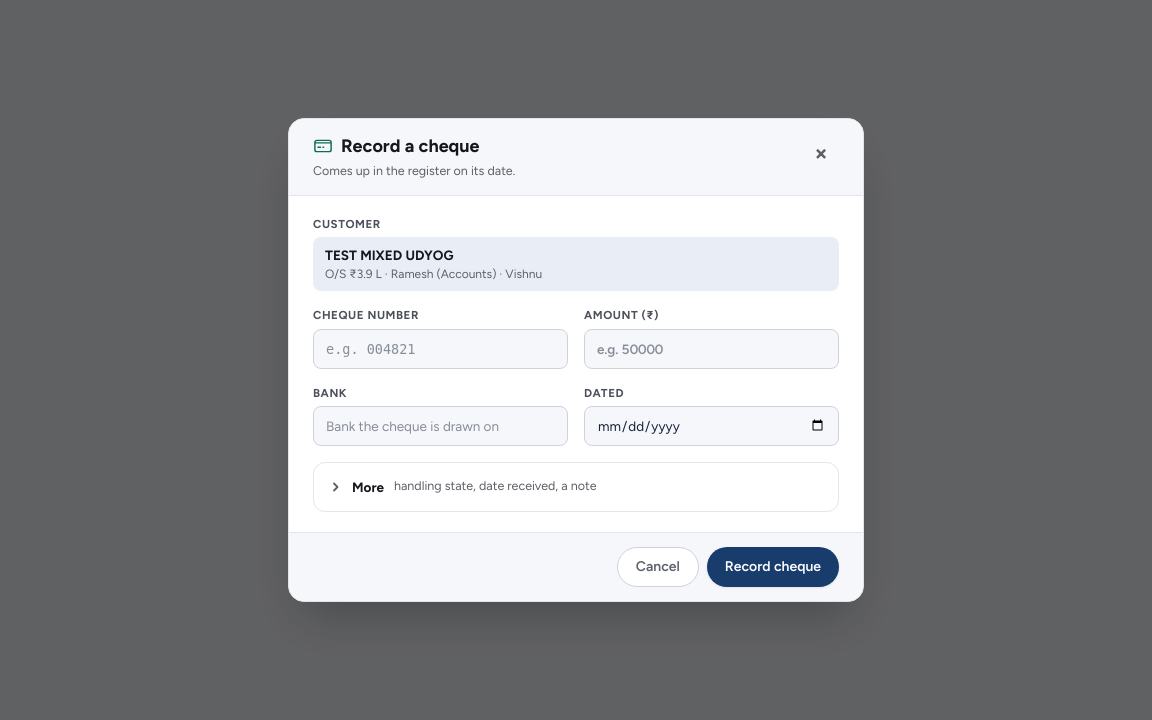
the dialog guesses nothing › a number already recorded for that customer from that bank is pointed out, not blocked
Type "C_DUE" into the field with placeholder "e.g. 004821" at x=440, y=349, box [313,329,568,369]
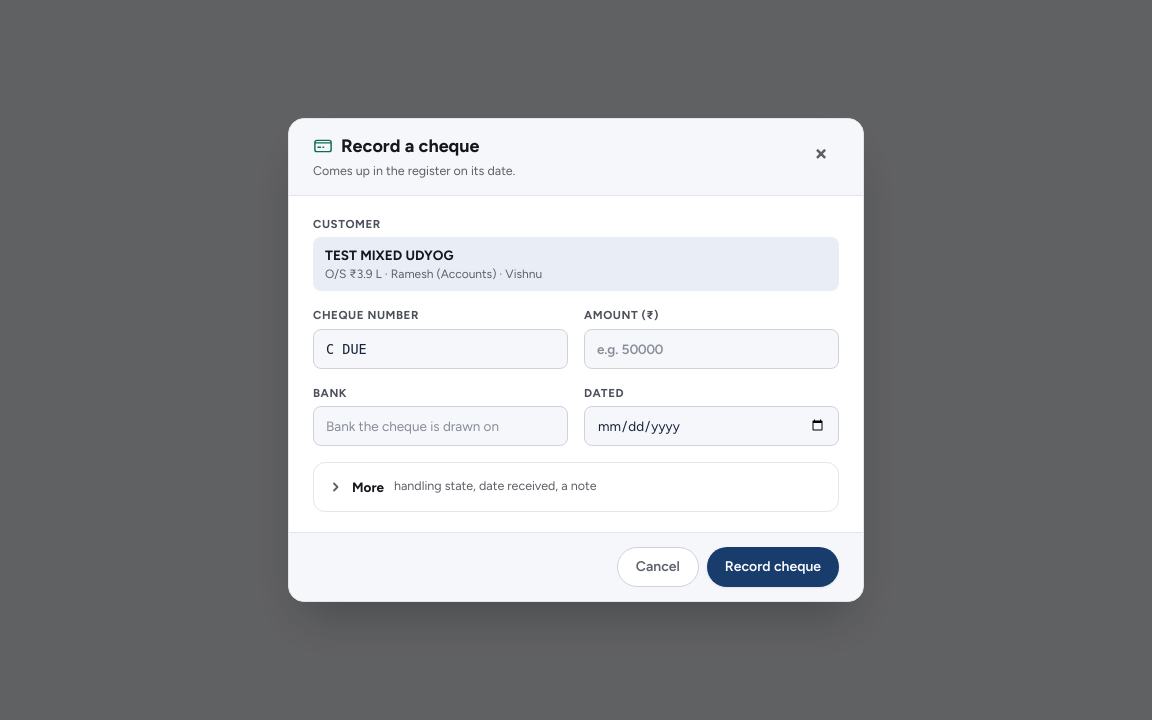
Type "hdfc bank" into the field labelled "Bank" at x=440, y=426, box [313,406,568,446]
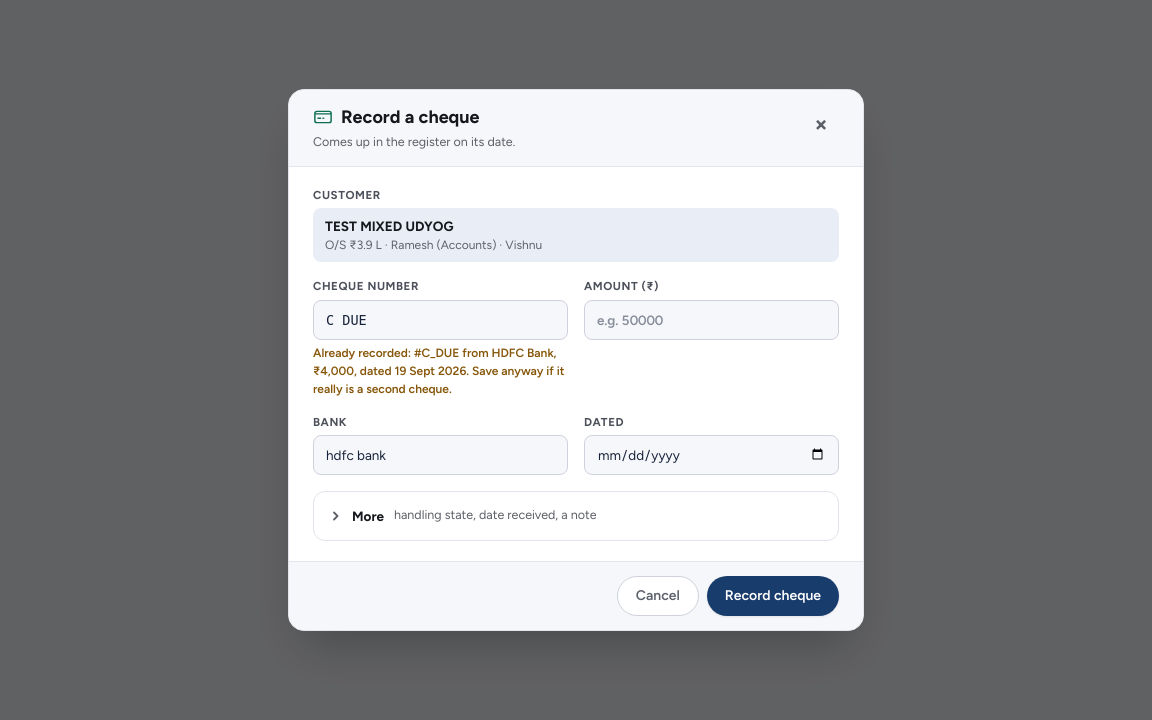
Result: the message shows "Already recorded: #C_DUE from HDFC Bank, ₹4,000" at [313,344,568,398]
